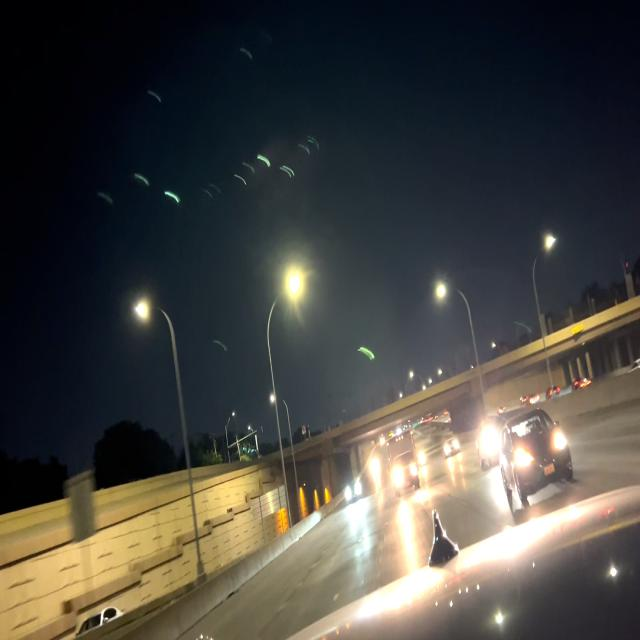back-of-sign: (250, 484, 287, 523)
